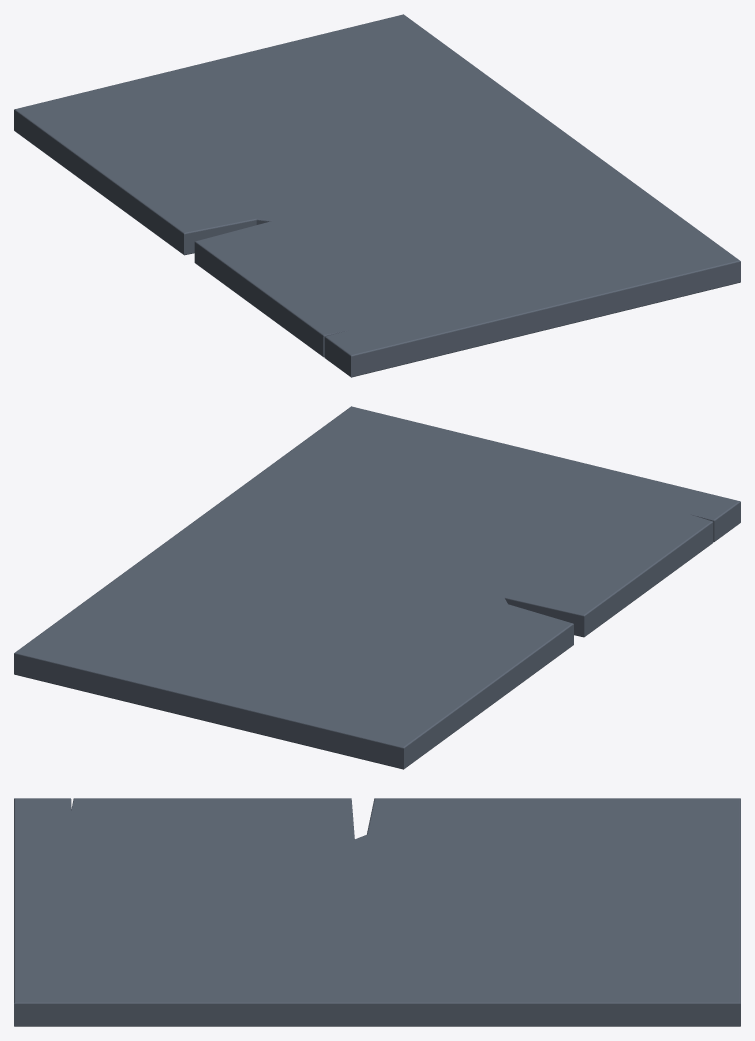
Rendered from the-iceflow-flip-straw-tumbler-trace-2685e7433f.glb.
3 renders of one model, top to bottom at view 1: azimuth 30°, elevation 25°; view 2: azimuth 150°, elevation 25°; view 3: azimuth 270°, elevation 25°, orthographic. The views are drawn at different scales.
Visible parts, largest first — view 1: flat_item_body; view 2: flat_item_body; view 3: flat_item_body.
Part boxes in pixels (box(x1,y1,x2,y2)): flat_item_body: box(14, 14, 740, 377); flat_item_body: box(14, 406, 740, 769); flat_item_body: box(14, 798, 740, 1026).
Bounding box in the file's own units: 80.17 × 4.4 × 120.
